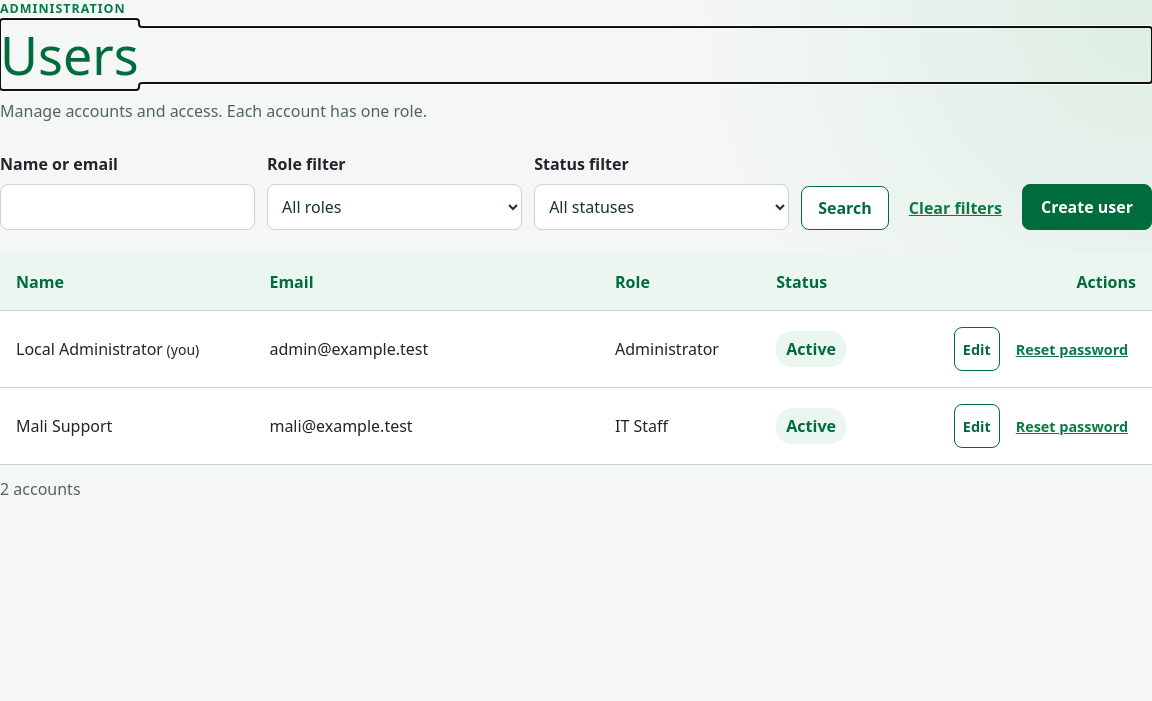
Administrator user management › retains non-secret create input, clears failed passwords and shows field validation
Click the button "Create user": click(1087, 208) [1022, 184, 1151, 230]
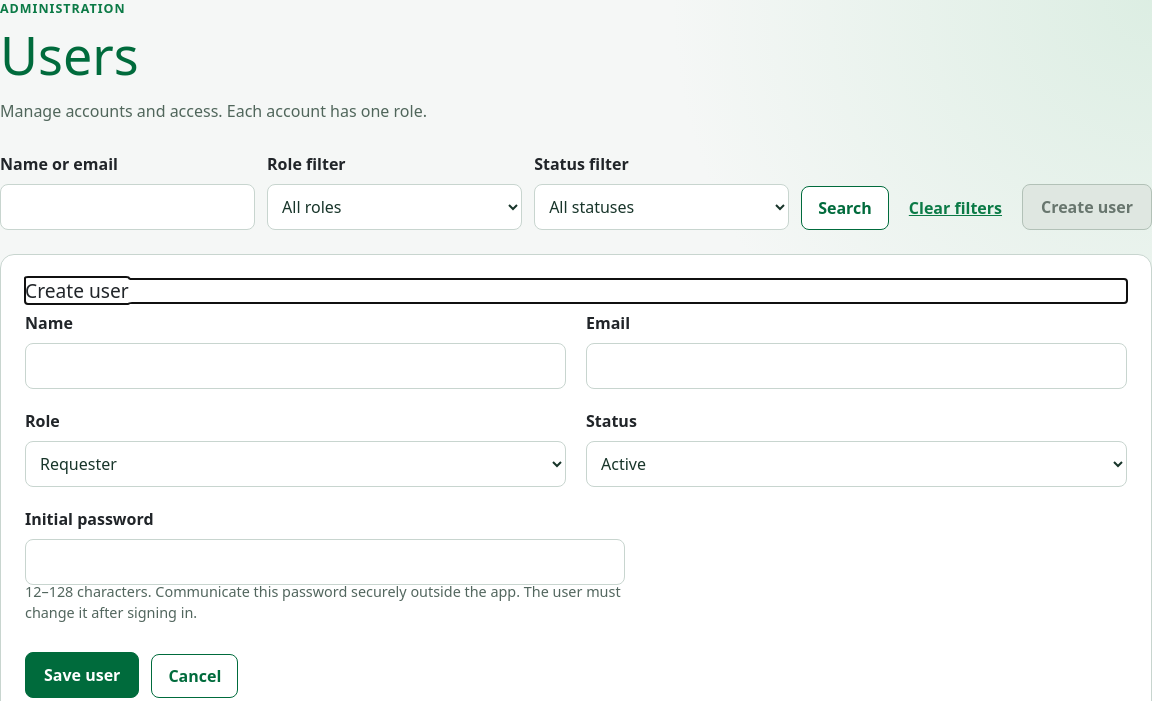
In the field labelled "Name": (296, 366) [25, 342, 566, 388], type "New Person"
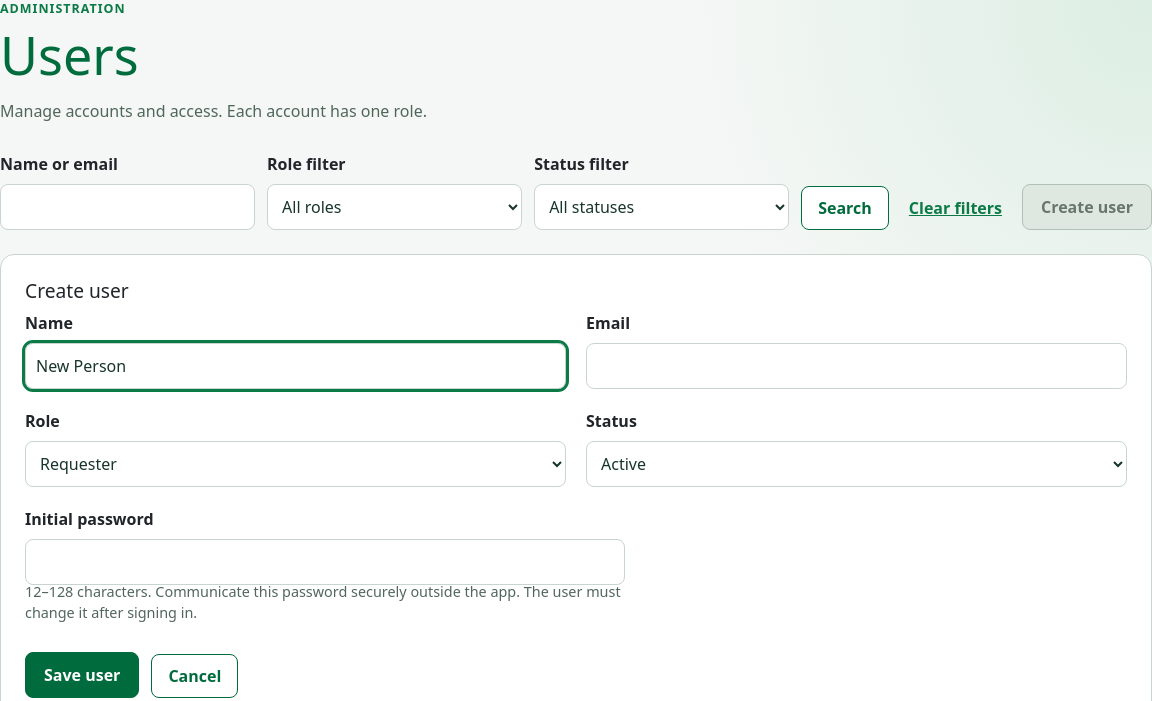
In the field labelled "Email": (856, 366) [586, 342, 1127, 388], type "new@example.test"
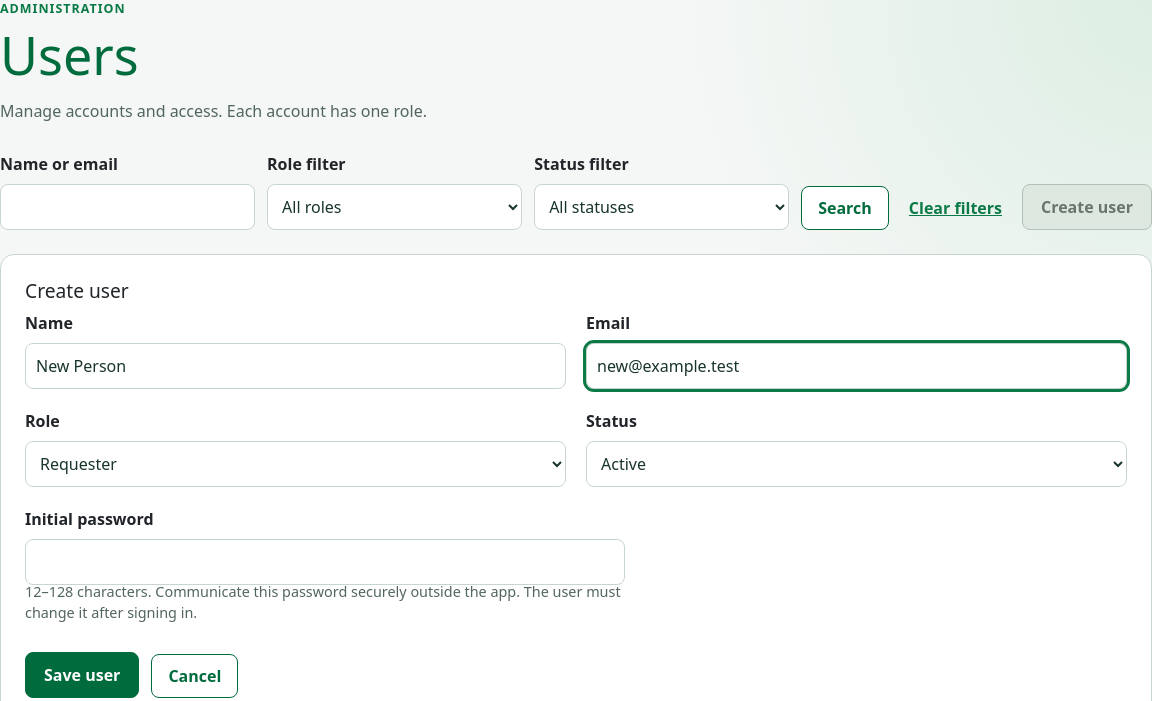
In the password field labelled "Initial password": (325, 562) [25, 538, 625, 584], type "Initial-fixture-2026!"
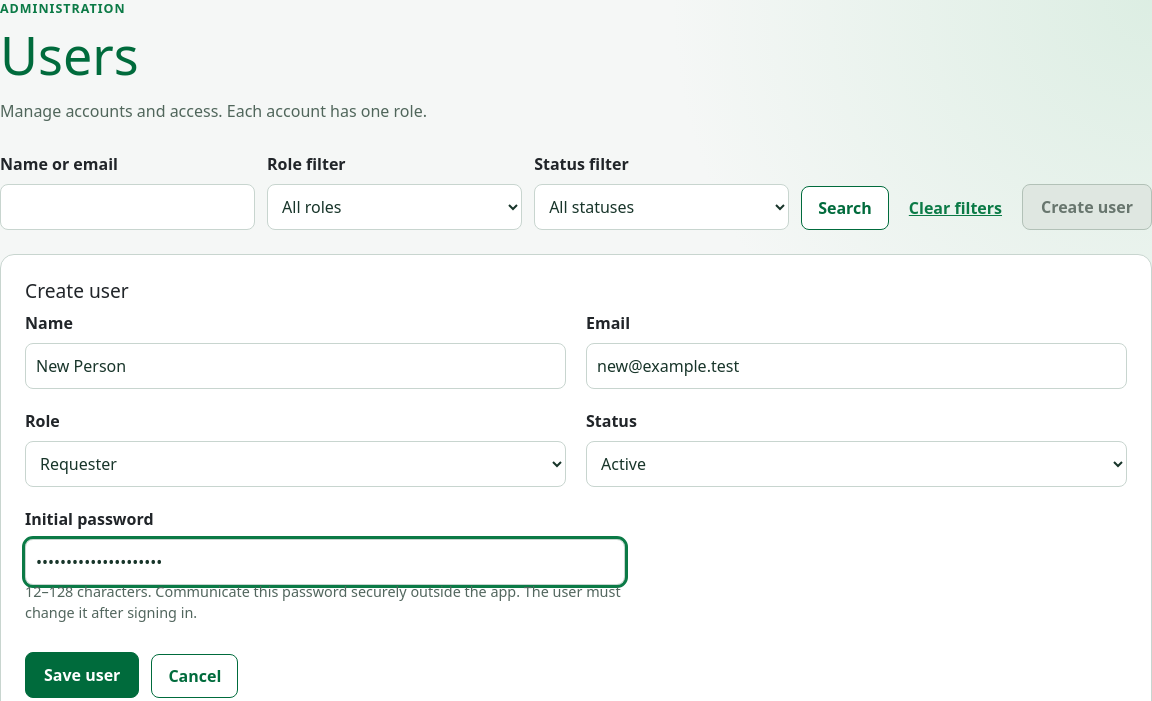
Click the button "Save user": click(82, 675) [25, 652, 139, 698]
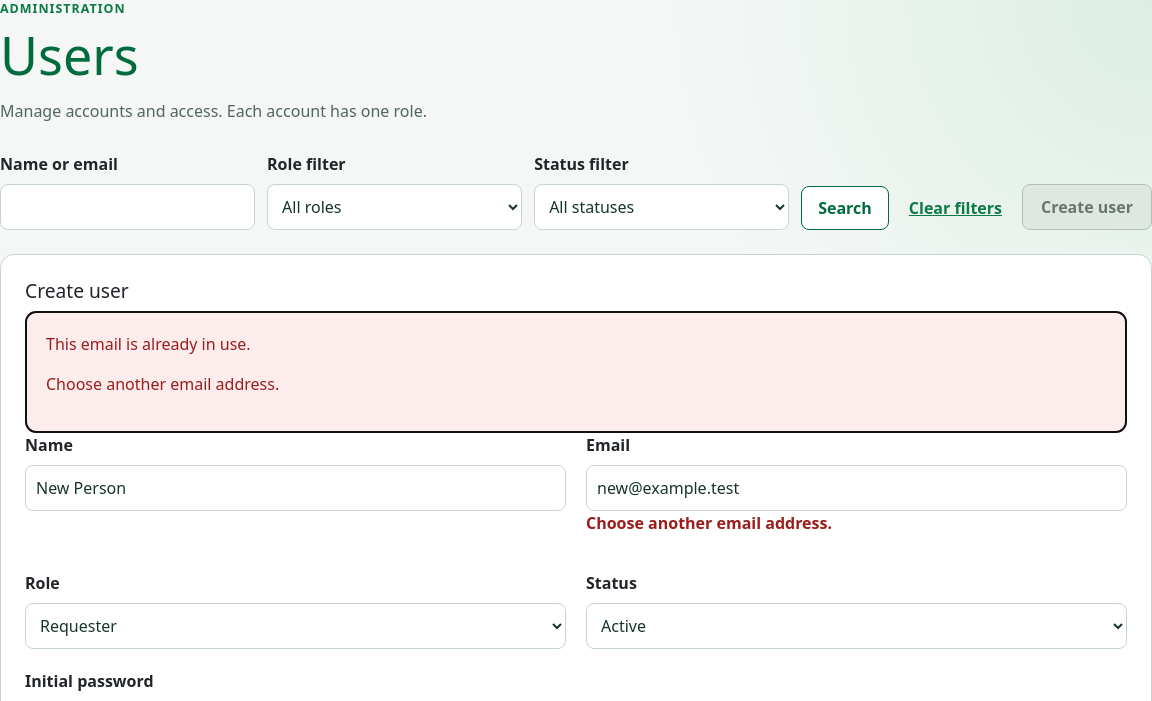
Now the message shows "already in use", box [46, 332, 251, 354]
